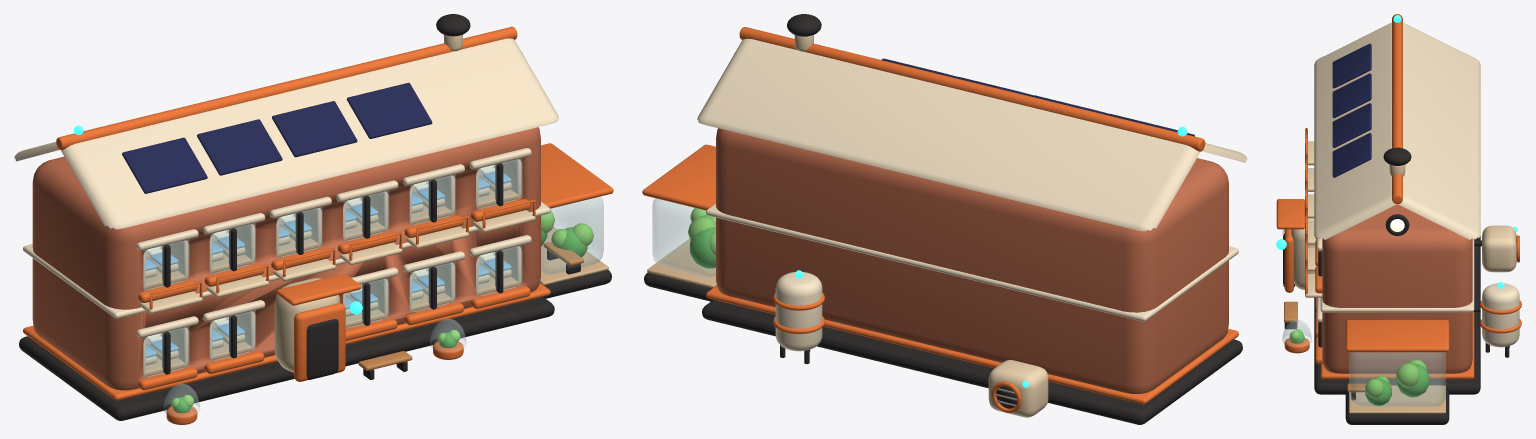
Rendered from brickhome-20i.glb.
3 renders of one model, left to right at view 1: azimuth 30°, elevation 25°; view 2: azimuth 150°, elevation 25°; view 3: azimuth 270°, elevation 25°, orthographic. The views are drawn at different scales.
Visible parts, largest first — view 1: Cube.001, Cube.003, Cube.014, Cube.002, Cube, Cube.169, Cube.008, Cube.004, Cube.005, Cube.009, Sphere.017, Cube.179 (+1 smaller); view 2: Cube.001, Cube.003, Cube.002, Cube, Cube.014, Cube.008, Cube.005, Cube.169, Sphere.016, Sphere.017; view 3: Cube.003, Cube.001, Cube.002, Cube.014, Cube, Cube.169, Cube.008, Cube.005, Sphere.017, Sphere.016, Cube.179.
Boxes of the visible parts, bbox=[...] form: Cube.001: bbox=[32, 127, 540, 390]; Cube.003: bbox=[14, 38, 559, 337]; Cube.014: bbox=[143, 158, 603, 417]; Cube.002: bbox=[23, 26, 613, 424]; Cube: bbox=[19, 14, 611, 420]; Cube.169: bbox=[122, 82, 432, 193]; Cube.008: bbox=[140, 34, 535, 372]; Cube.004: bbox=[143, 159, 521, 375]; Cube.005: bbox=[144, 189, 608, 376]; Cube.009: bbox=[145, 171, 511, 357]; Sphere.017: bbox=[170, 210, 593, 408]; Cube.179: bbox=[358, 241, 583, 370]; Cube.001: bbox=[716, 128, 1228, 393]; Cube.003: bbox=[697, 38, 1247, 351]; Cube.002: bbox=[642, 27, 1238, 412]; Cube: bbox=[644, 14, 1242, 424]; Cube.014: bbox=[652, 198, 715, 277]; Cube.008: bbox=[794, 35, 1048, 417]; Cube.005: bbox=[647, 239, 716, 288]; Cube.169: bbox=[882, 58, 1194, 136]; Sphere.016: bbox=[690, 214, 715, 268]; Sphere.017: bbox=[688, 208, 715, 255]; Cube.003: bbox=[1314, 22, 1519, 347]; Cube.001: bbox=[1322, 204, 1472, 373]; Cube.002: bbox=[1276, 14, 1521, 379]; Cube.014: bbox=[1282, 229, 1445, 407]; Cube: bbox=[1283, 147, 1509, 424]; Cube.169: bbox=[1332, 43, 1371, 177]; Cube.008: bbox=[1291, 141, 1516, 297]; Cube.005: bbox=[1349, 385, 1445, 413]; Sphere.017: bbox=[1289, 329, 1427, 398]; Sphere.016: bbox=[1289, 330, 1429, 405]; Cube.179: bbox=[1284, 301, 1391, 392].
Bounding box in the file's own units: 3.15 × 1.59 × 1.57.
